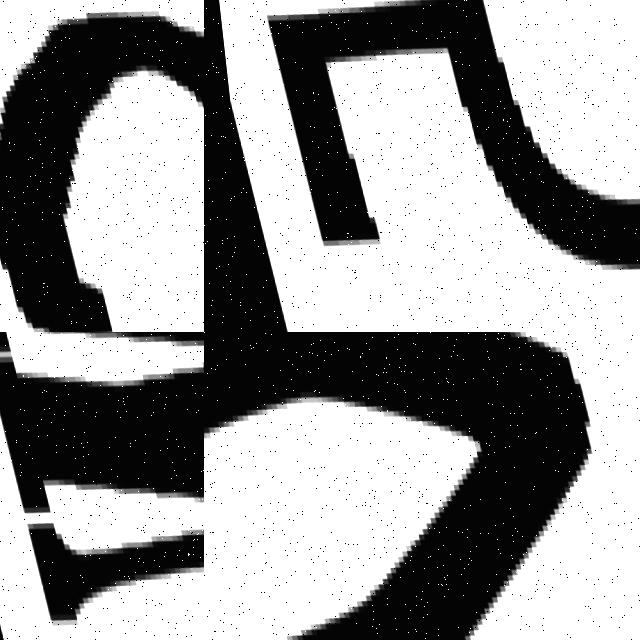5: (236, 0, 640, 328)
S: (0, 0, 204, 332)
V: (204, 332, 640, 640)
W: (0, 332, 204, 640)
